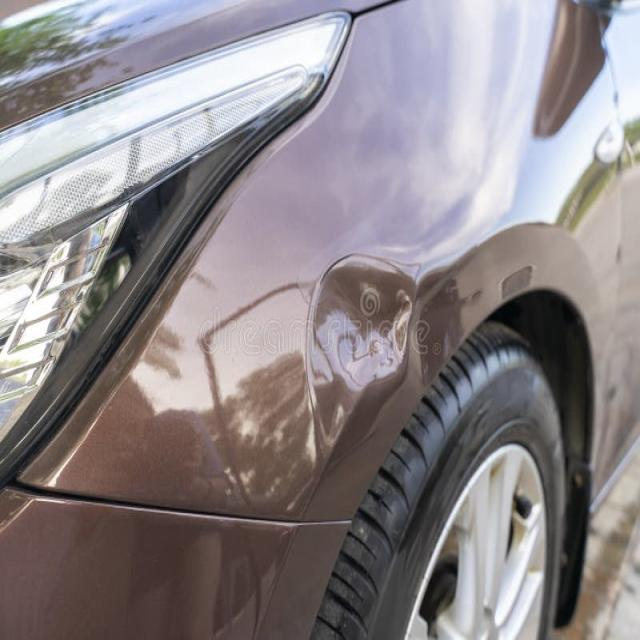dent: (305, 248, 413, 452)
